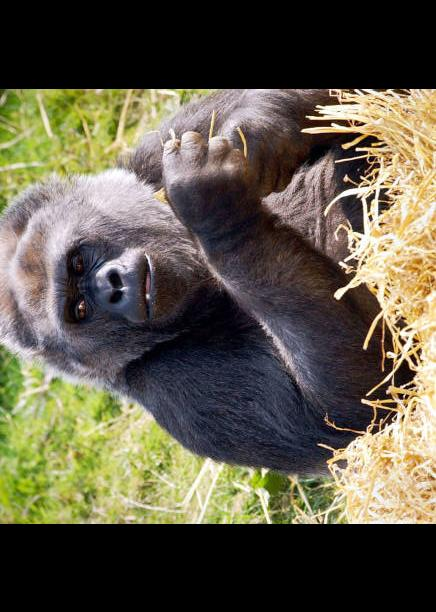gorille_Autres: (0, 88, 371, 516)
